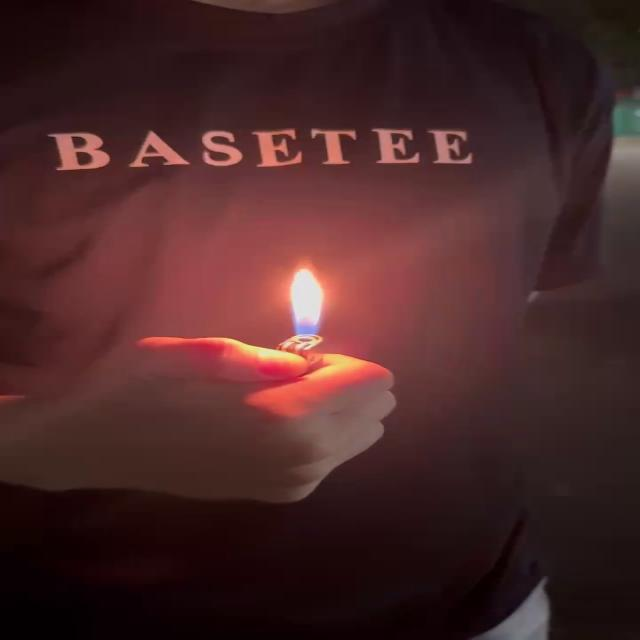Fire: (287, 269, 329, 342)
